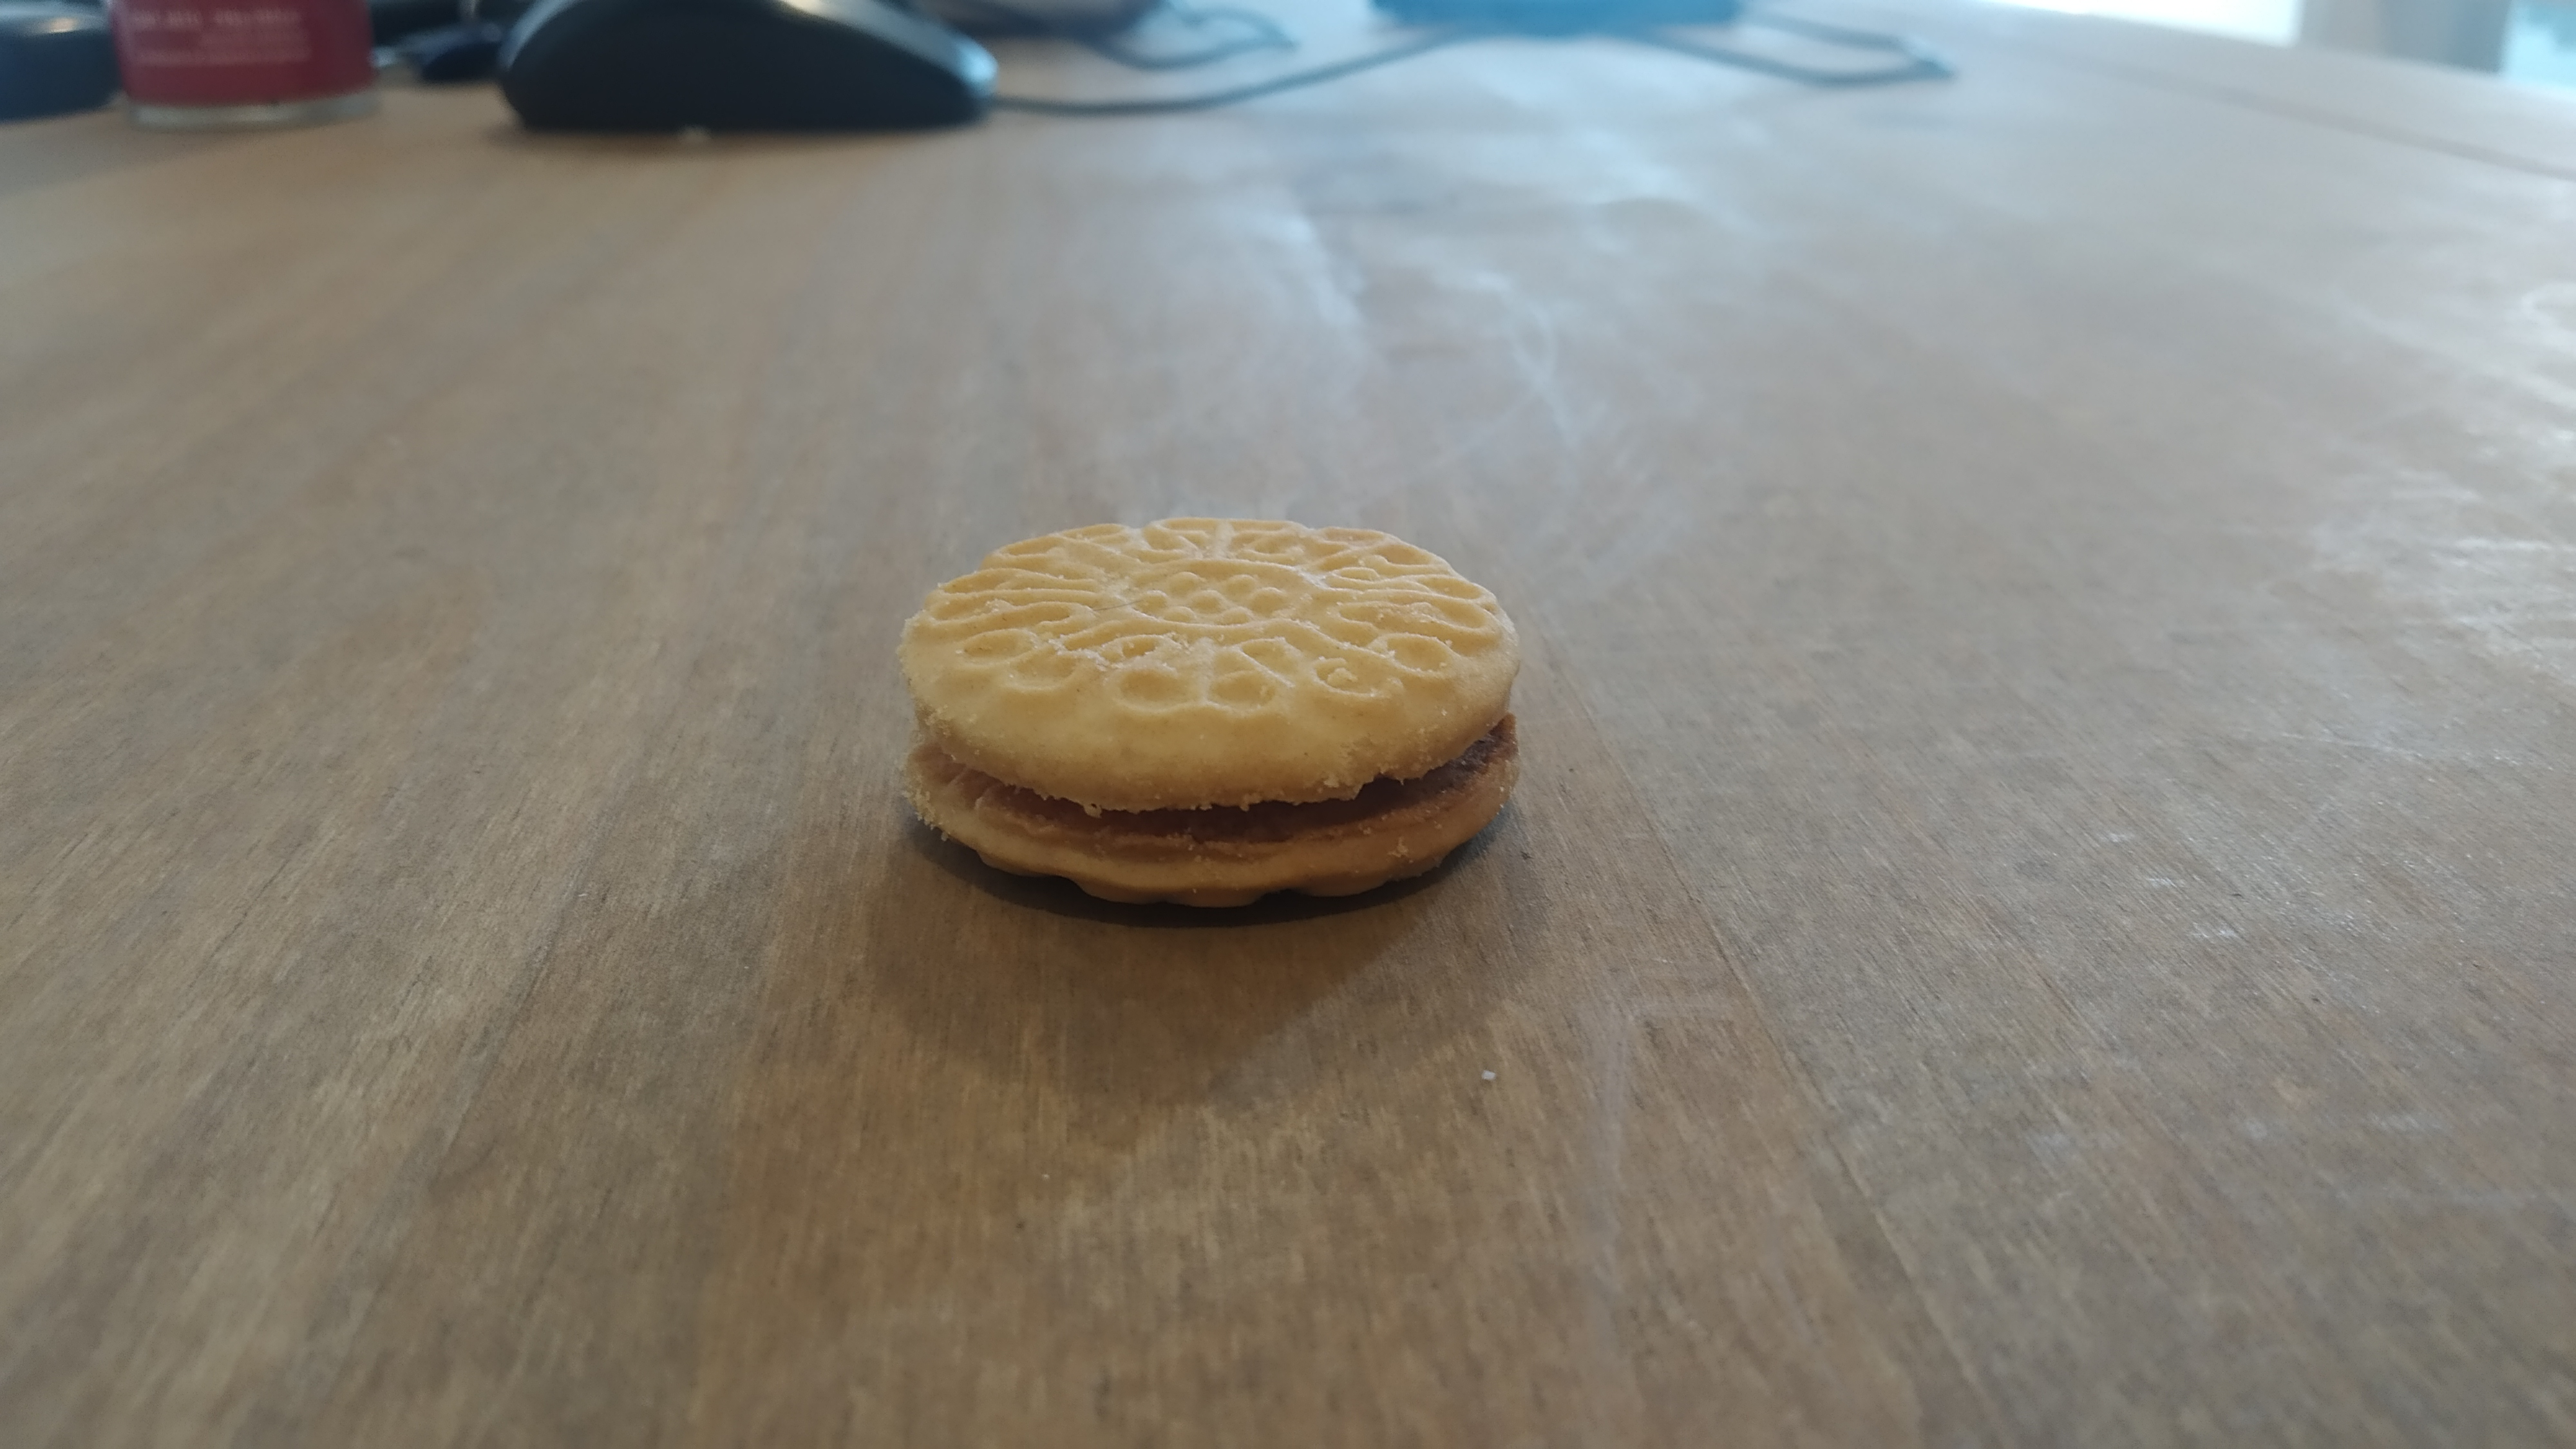lulu: (892, 517, 1525, 906)
